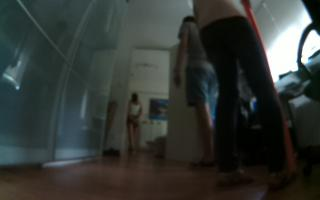person: (192, 1, 301, 196), (170, 9, 227, 169), (124, 89, 143, 158)
